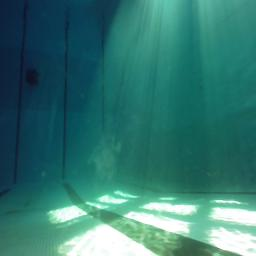Full: (26, 69, 38, 85)
